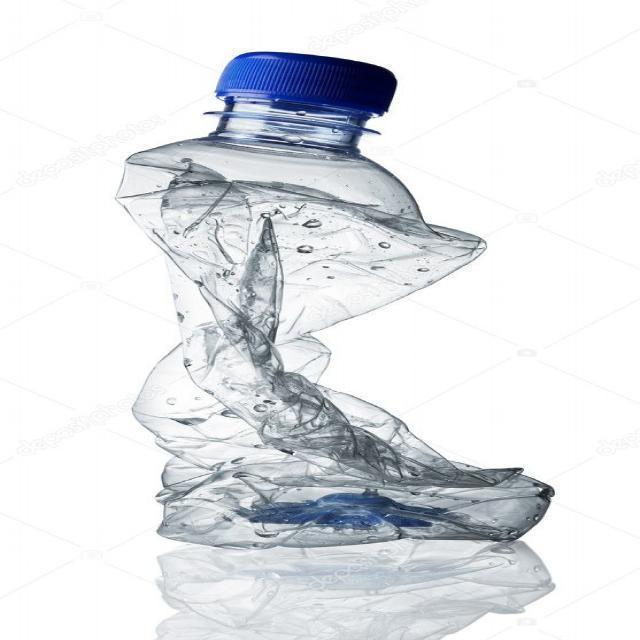Plastic: (118, 49, 547, 547)
